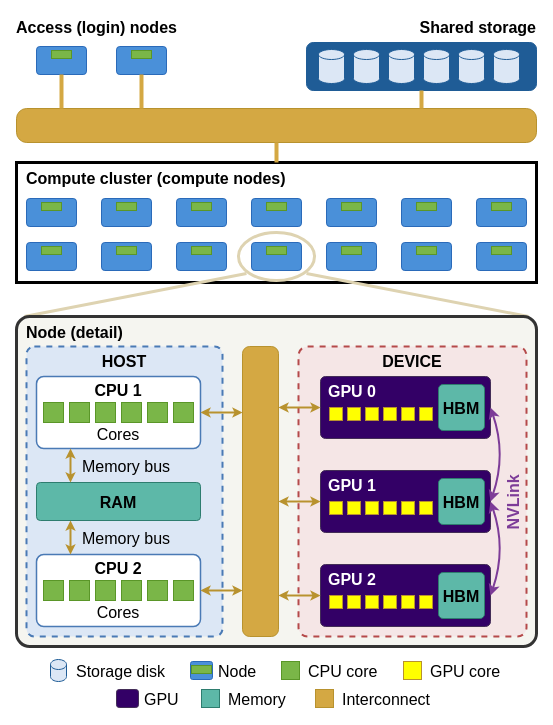
The diagram is 553 pixels wide and 725 high, and some of its shapes have lost their labels. The shapes that lost their labels are listed below. From the top down, each one's box as (x1, y1, x2, y2) in pixels, then its label:
(16, 108, 536, 142): High-speed interconnect (e.g., InfiniBand)
(242, 346, 278, 636): PCIe/NVLink
